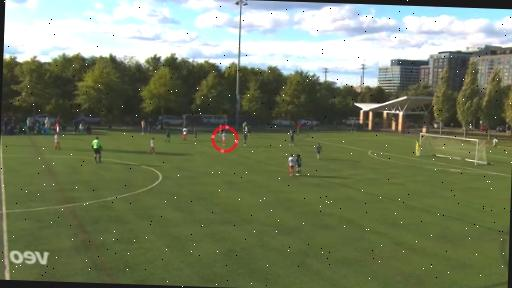highlight_overlay: (210, 124, 240, 157)
